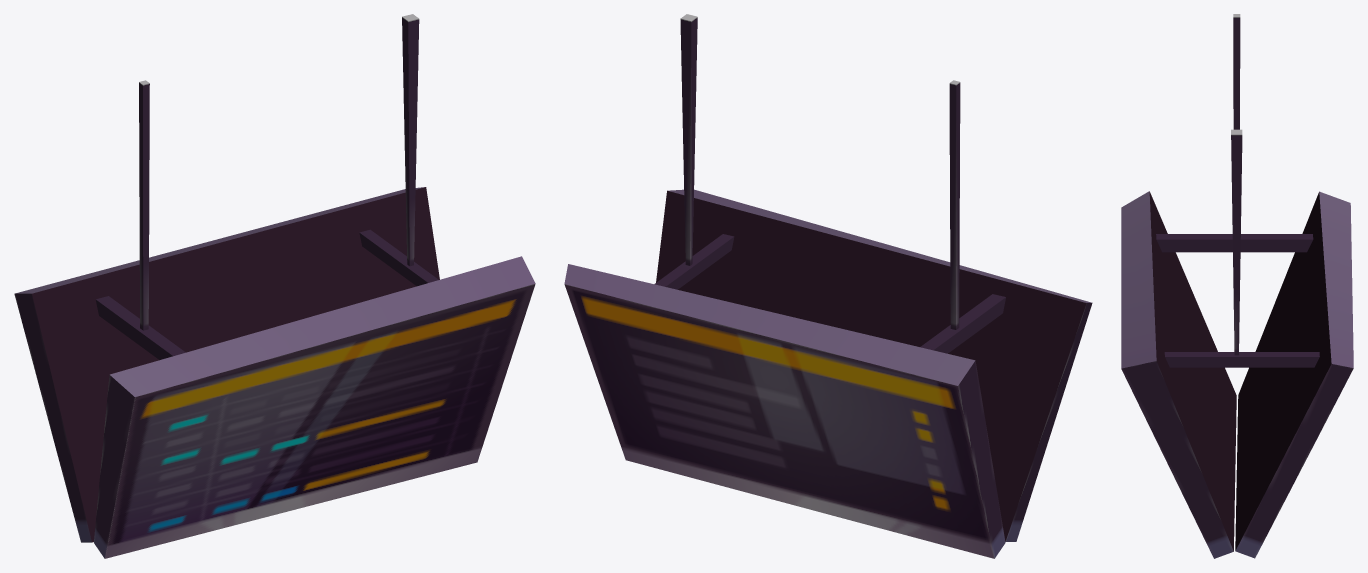
The model's file is Planta_sin_texto.fbx.
The picture shows the model from 3 angles, left to right: view 1: azimuth 30°, elevation 25°; view 2: azimuth 150°, elevation 25°; view 3: azimuth 270°, elevation 25°; orthographic projection. The views are drawn at different scales.
Visible parts, largest first — view 1: Cube.042; view 2: Cube.042; view 3: Cube.042.
Boxes of the visible parts, x1,y1,x2,y2 form: Cube.042: [14, 14, 535, 558]; Cube.042: [564, 14, 1092, 558]; Cube.042: [1121, 14, 1353, 558].
Size of the model in its own units: 72.84 by 75.93 by 39.1.
